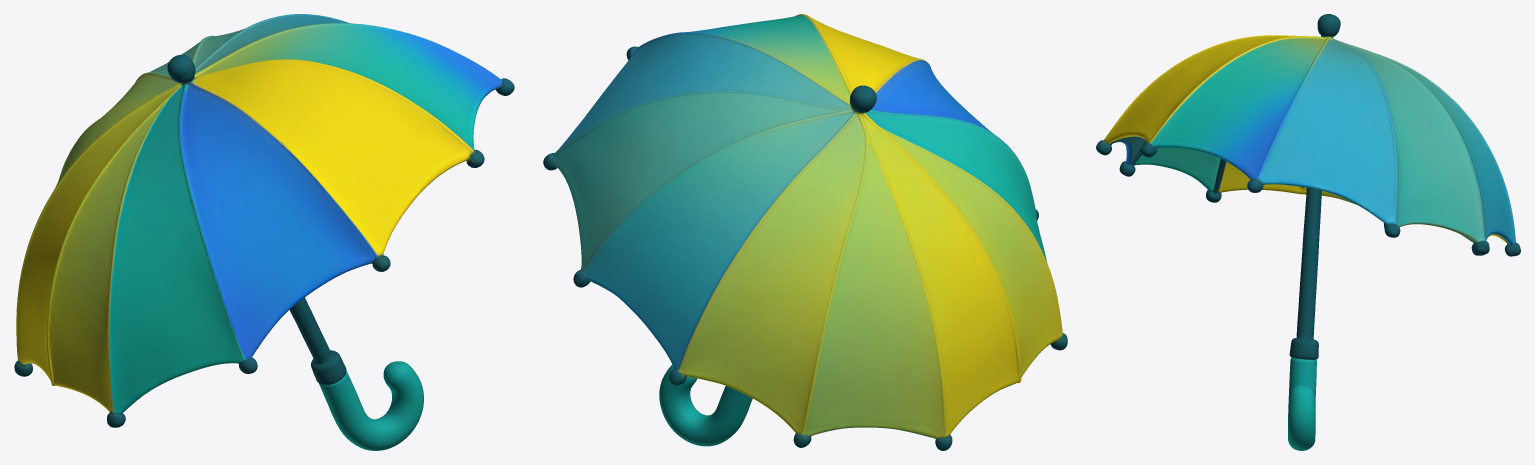
The model's file is ColorfulUmbrella.glb.
3 views of the same model, side by side, from view 1: azimuth 30°, elevation 25°; view 2: azimuth 150°, elevation 25°; view 3: azimuth 270°, elevation 25° (orthographic). The views are drawn at different scales.
Visible parts, largest first — view 1: tripo_node_5b26856e-9bca-40c5-ae0f-dd3868e391af; view 2: tripo_node_5b26856e-9bca-40c5-ae0f-dd3868e391af; view 3: tripo_node_5b26856e-9bca-40c5-ae0f-dd3868e391af.
Boxes of the visible parts, box(x1,y1,x2,y2) form: tripo_node_5b26856e-9bca-40c5-ae0f-dd3868e391af: box(14, 14, 514, 450); tripo_node_5b26856e-9bca-40c5-ae0f-dd3868e391af: box(543, 14, 1067, 450); tripo_node_5b26856e-9bca-40c5-ae0f-dd3868e391af: box(1096, 14, 1520, 450).
Bounding box in the file's own units: 0.9804 × 0.9222 × 0.9781.
Materials: 1 (1 with a texture image).
